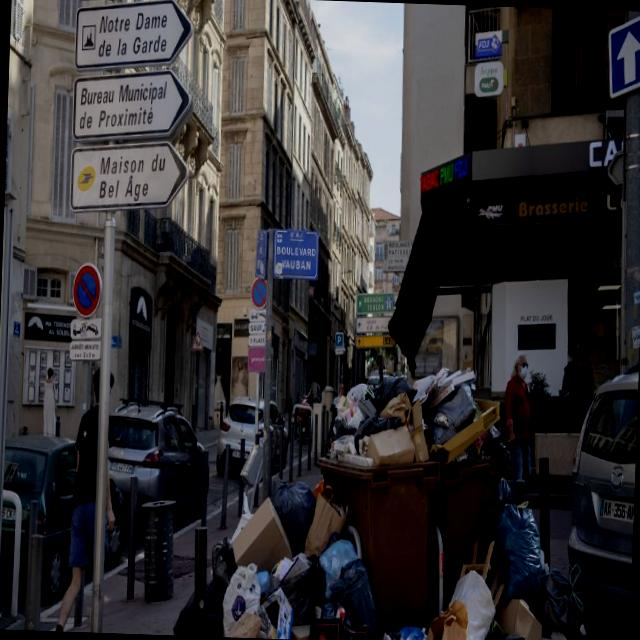garbage: (264, 337, 493, 640)
